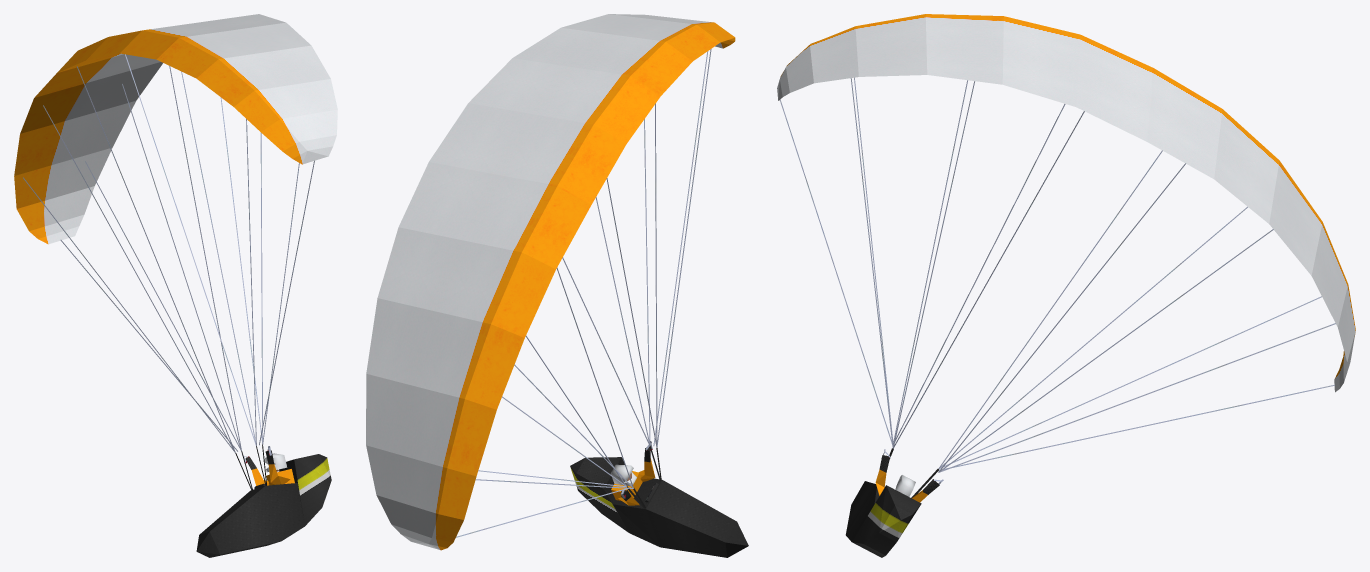
Rendered from paraglider-yellow-thermal-cbj_LOD02.gltf.
The picture shows the model from 3 angles, left to right: view 1: azimuth 30°, elevation 25°; view 2: azimuth 150°, elevation 25°; view 3: azimuth 270°, elevation 25°; orthographic projection. The views are drawn at different scales.
Visible parts, largest first — view 1: harness-plus00; view 2: harness-plus00; view 3: harness-plus00.
Part boxes in pixels (x1,y1,x2,y2): harness-plus00: (14, 14, 337, 557); harness-plus00: (366, 14, 748, 557); harness-plus00: (777, 14, 1355, 557).
Size of what is drawn, in the model's own units: 2.86 by 8.13 by 8.14.
